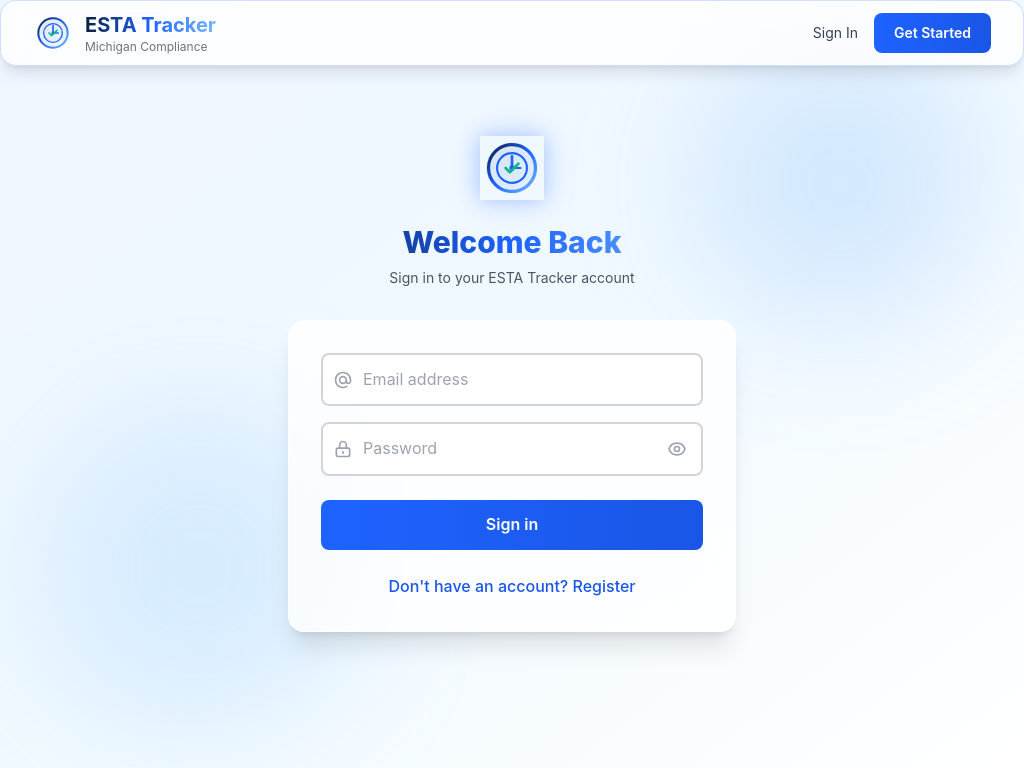
Test case: Login Page › Error Handling › should display network error message
Type "test@example.com" into the field with placeholder "Email address" at (512, 380), box [321,353,703,406]
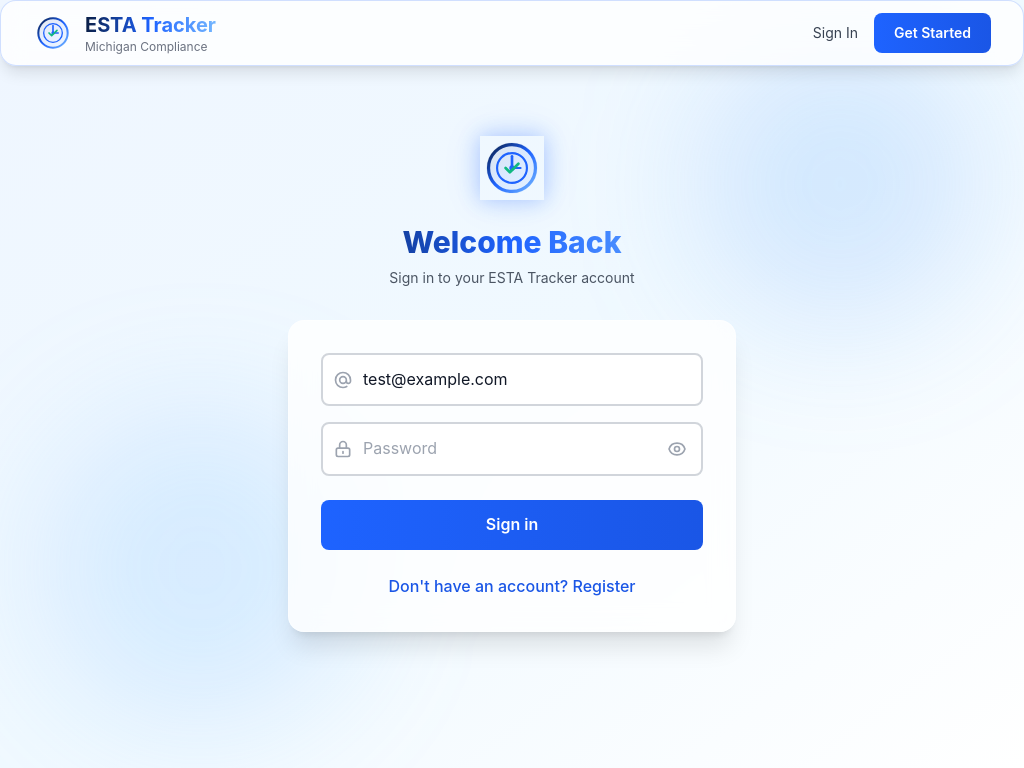
Type "password123" into the password field with placeholder "Password" at (512, 449), box [321,422,703,476]
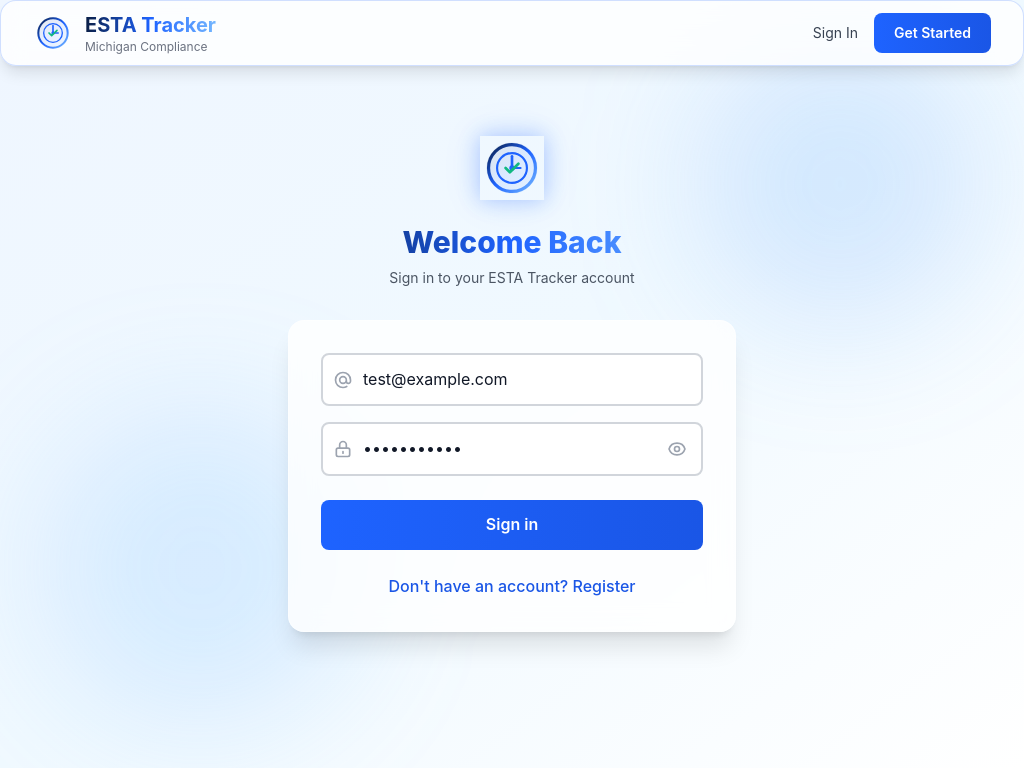
Click the button "Sign in" at (512, 525), box [321,500,703,550]
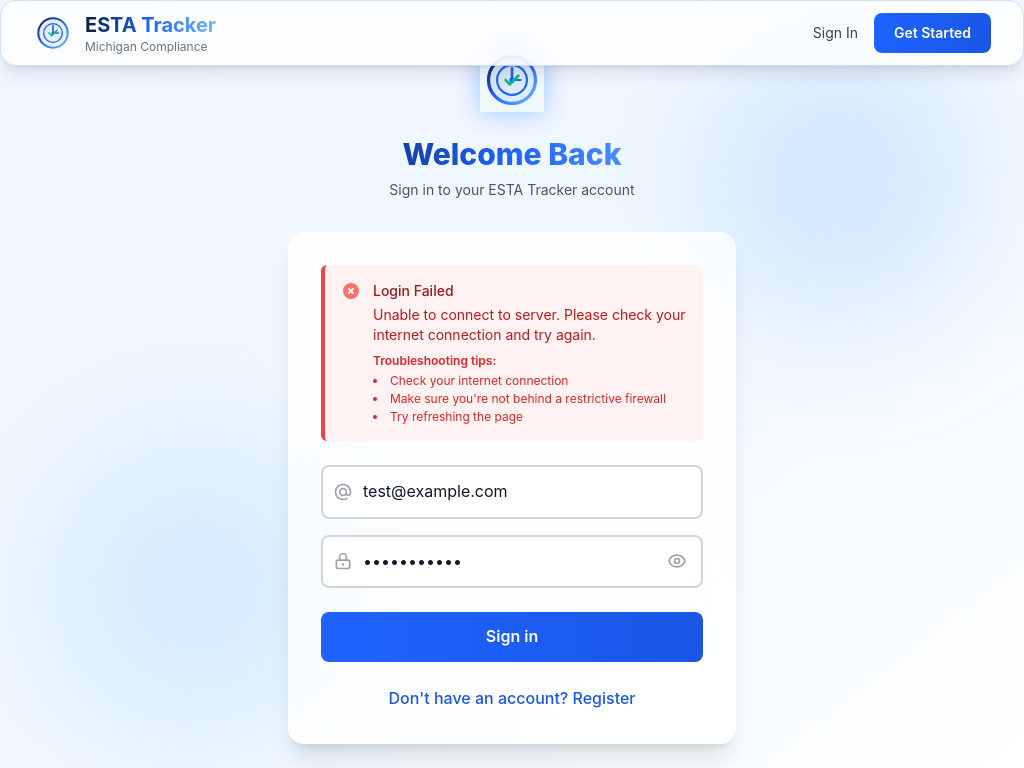
Now the text "Unable to connect to server" is shown, box [373,306,686,343]
